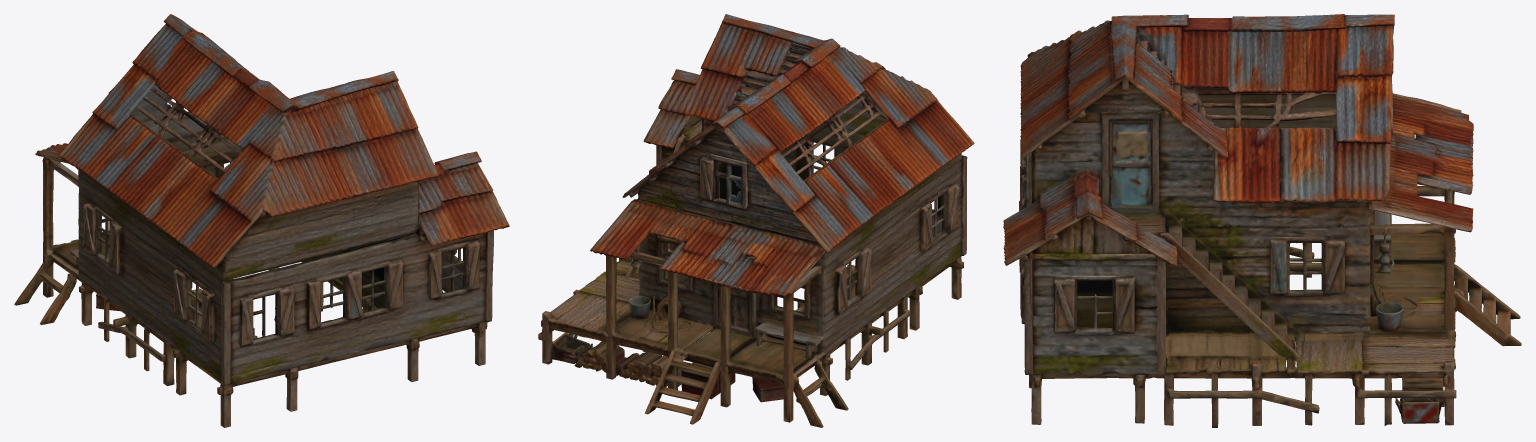
The model's file is old_house_with_rusty_roof_3d_model_free.glb.
3 renders of one model, left to right at view 1: azimuth 30°, elevation 25°; view 2: azimuth 150°, elevation 25°; view 3: azimuth 270°, elevation 25°, orthographic. The views are drawn at different scales.
Visible parts, largest first — view 1: tripo_node_e2ff84aa-7053-4e45-90c0-4e57001ca9e3_0; view 2: tripo_node_e2ff84aa-7053-4e45-90c0-4e57001ca9e3_0; view 3: tripo_node_e2ff84aa-7053-4e45-90c0-4e57001ca9e3_0.
Boxes of the visible parts, x1=… form: tripo_node_e2ff84aa-7053-4e45-90c0-4e57001ca9e3_0: x1=14, y1=14, x2=509, y2=427; tripo_node_e2ff84aa-7053-4e45-90c0-4e57001ca9e3_0: x1=538, y1=14, x2=974, y2=427; tripo_node_e2ff84aa-7053-4e45-90c0-4e57001ca9e3_0: x1=1003, y1=14, x2=1521, y2=427.
Bounding box in the file's own units: 0.8008 × 0.6934 × 1.
Materials: 1 (1 with a texture image).
